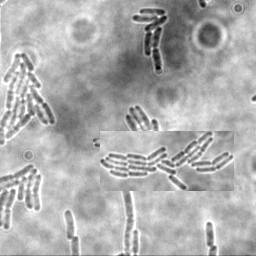Dividing: (114, 192, 133, 255), (93, 138, 125, 148), (204, 221, 215, 248)
Microcolony: (100, 131, 234, 191), (1, 51, 56, 147), (1, 162, 44, 231), (130, 8, 167, 72), (124, 106, 160, 131), (63, 208, 74, 240)
